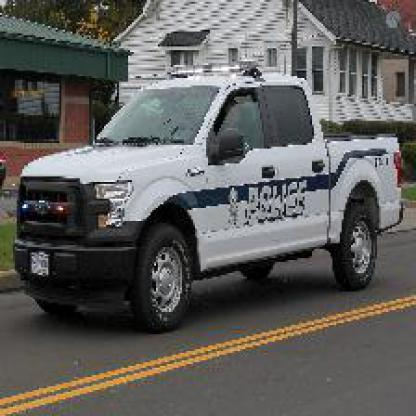emergency: (17, 76, 406, 294)
